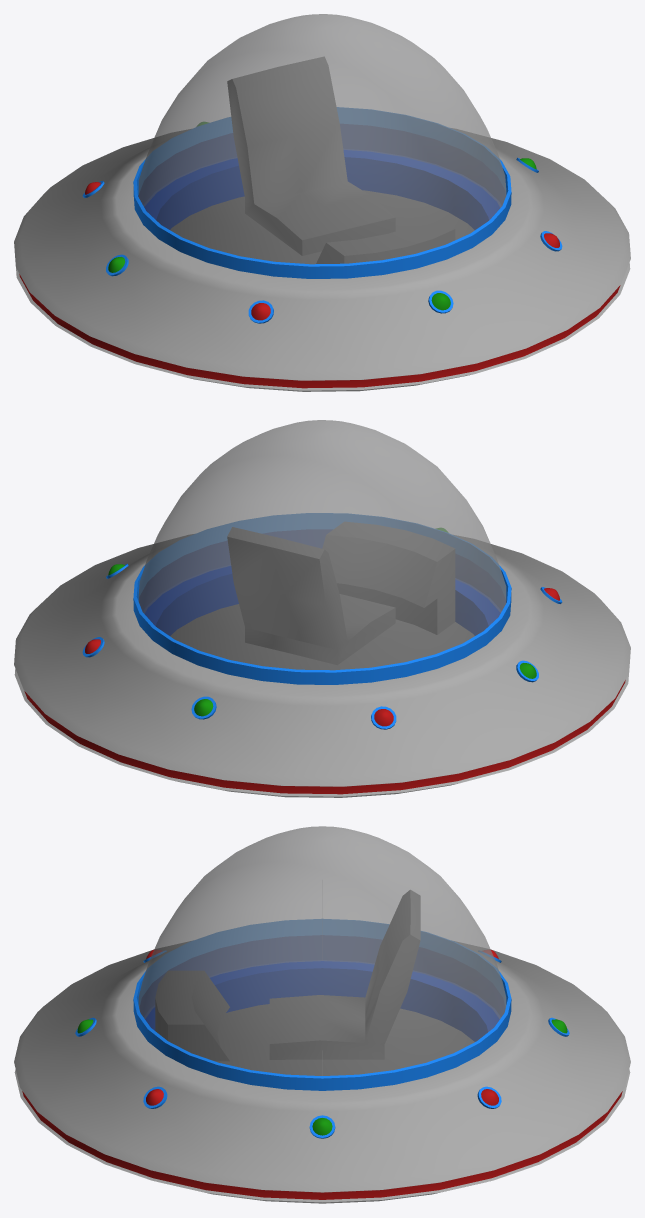
Rendered from UFO.fbx.
The picture shows the model from 3 angles, top to bottom: view 1: azimuth 30°, elevation 25°; view 2: azimuth 150°, elevation 25°; view 3: azimuth 270°, elevation 25°; orthographic projection.
Visible parts, largest first — view 1: UFO_Body, Glass, Int; view 2: UFO_Body, Glass, Int; view 3: UFO_Body, Glass, Int.
Boxes of the visible parts, x1,y1,x2,y2 form: UFO_Body: (14, 107, 630, 391); Glass: (138, 14, 506, 264); Int: (170, 56, 474, 264); UFO_Body: (14, 513, 630, 797); Glass: (138, 420, 506, 670); Int: (170, 521, 474, 670); UFO_Body: (14, 919, 630, 1203); Glass: (138, 826, 506, 1075); Int: (155, 890, 474, 1075).
Size of the model in its own units: 171 by 83.9 by 171.
